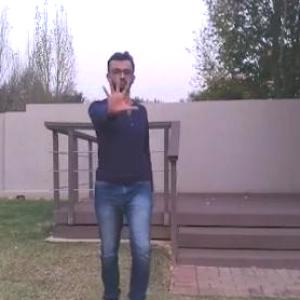follow_hand: (98, 74, 139, 116)
